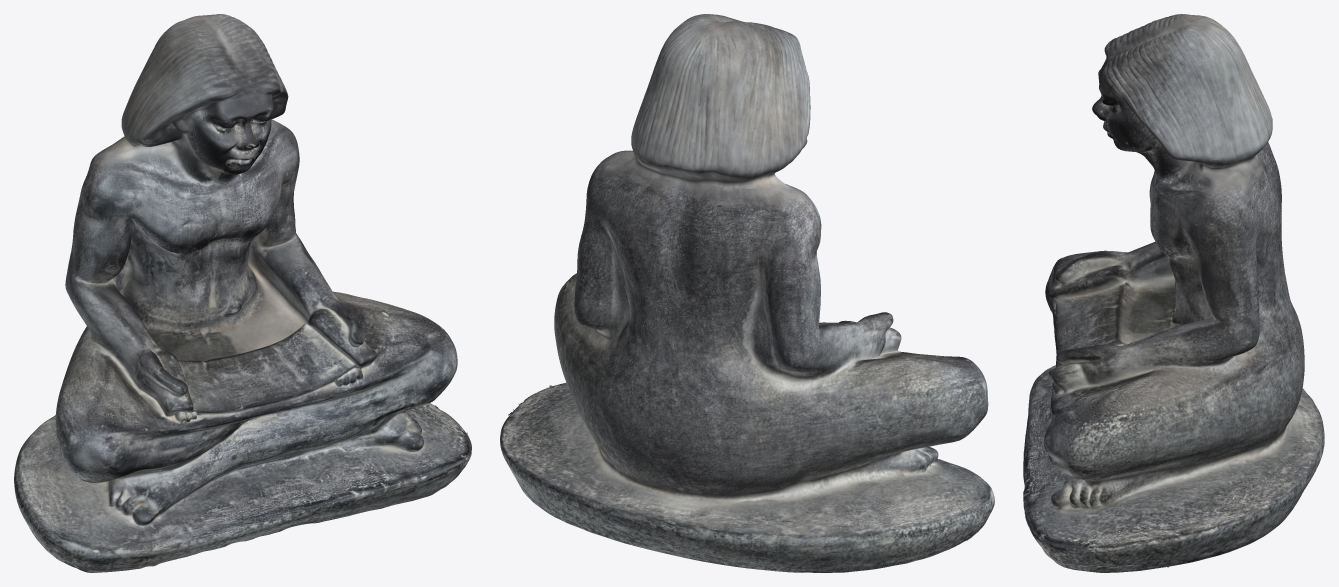
The picture shows the model from 3 angles, left to right: view 1: azimuth 30°, elevation 25°; view 2: azimuth 150°, elevation 25°; view 3: azimuth 270°, elevation 25°; orthographic projection. The views are drawn at different scales.
Parts seen in each view (by area): view 1: tripo_node_c3caa040-b664-4532-a544-cff378a1071c; view 2: tripo_node_c3caa040-b664-4532-a544-cff378a1071c; view 3: tripo_node_c3caa040-b664-4532-a544-cff378a1071c.
Boxes of the visible parts, box(x1,y1,x2,y2) form: tripo_node_c3caa040-b664-4532-a544-cff378a1071c: box(14, 14, 471, 572); tripo_node_c3caa040-b664-4532-a544-cff378a1071c: box(500, 14, 994, 572); tripo_node_c3caa040-b664-4532-a544-cff378a1071c: box(1023, 14, 1324, 572).
Bounding box in the file's own units: 0.9194 × 0.9781 × 0.5798.
Materials: 1 (1 with a texture image).
